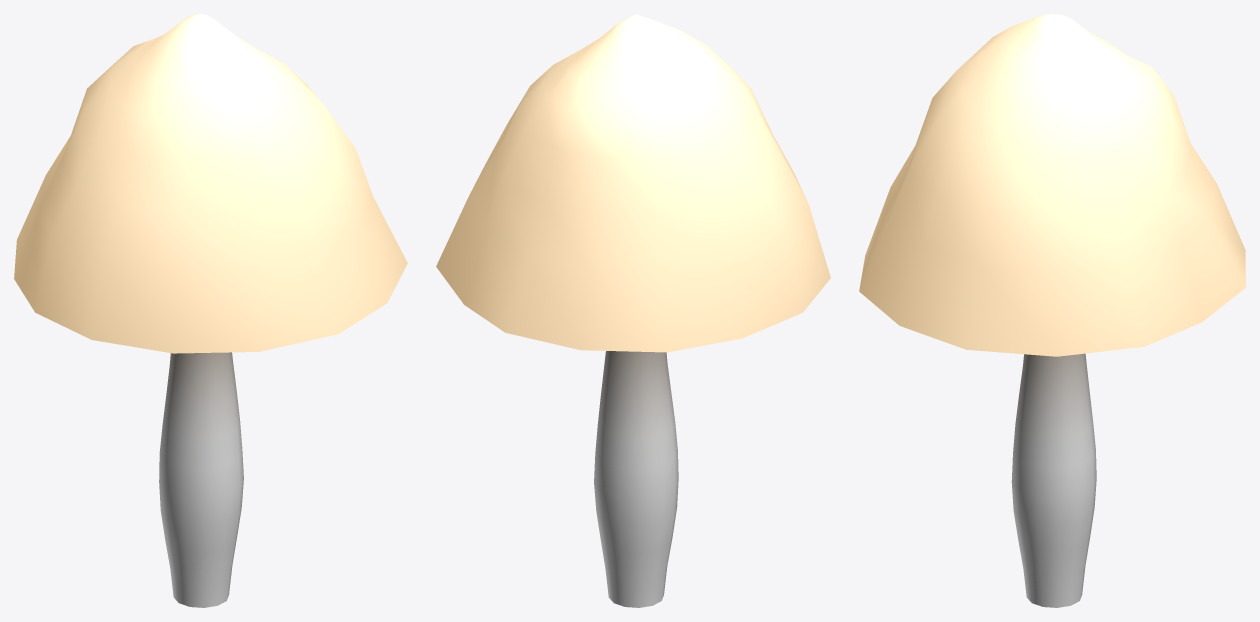
File: mushroom_1.glb
3 renders of one model, left to right at view 1: azimuth 30°, elevation 25°; view 2: azimuth 150°, elevation 25°; view 3: azimuth 270°, elevation 25°, orthographic.
Visible parts, largest first — view 1: geo1; view 2: geo1; view 3: geo1.
Part boxes in pixels (x1,y1,x2,y2): geo1: (14, 14, 407, 607); geo1: (436, 14, 830, 607); geo1: (859, 14, 1245, 607).
Bounding box in the file's own units: 0.1747 × 0.2847 × 0.1712.
